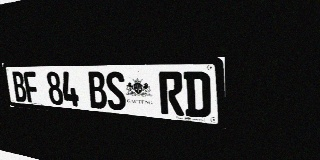4: (60, 71, 79, 107)
8: (45, 71, 64, 105)
B: (87, 71, 108, 109), (11, 71, 28, 102)
D: (183, 71, 211, 118)
F: (23, 71, 40, 103)
R: (158, 71, 184, 116)
S: (104, 71, 127, 111)
